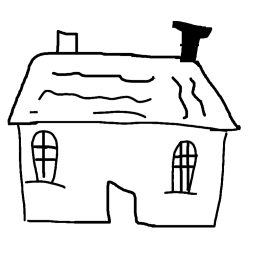chimney: (164, 11, 216, 64), (46, 25, 84, 55)
closed_window: (153, 137, 199, 203), (21, 125, 72, 184)
door: (101, 174, 146, 228)
roof: (5, 50, 247, 129)
wall: (7, 121, 242, 234)
